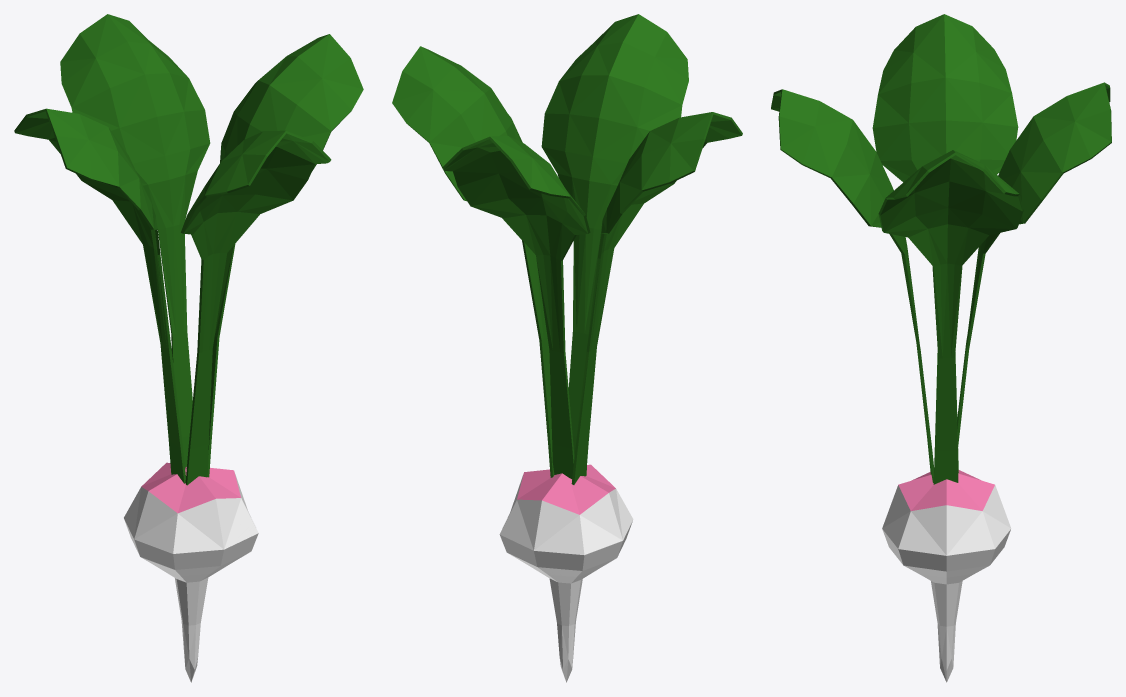
Rendered from Turnip.obj.
3 renders of one model, left to right at view 1: azimuth 30°, elevation 25°; view 2: azimuth 150°, elevation 25°; view 3: azimuth 270°, elevation 25°, orthographic.
Visible parts, largest first — view 1: Turnip_DarkGreen, Turnip_White, Turnip_PalePink2; view 2: Turnip_DarkGreen, Turnip_White, Turnip_PalePink2; view 3: Turnip_DarkGreen, Turnip_White, Turnip_PalePink2.
Part boxes in pixels (x1,y1,x2,y2): Turnip_DarkGreen: (14, 14, 363, 485); Turnip_White: (124, 474, 258, 682); Turnip_PalePink2: (141, 462, 240, 513); Turnip_DarkGreen: (392, 14, 742, 484); Turnip_White: (499, 475, 633, 682); Turnip_PalePink2: (517, 464, 615, 514); Turnip_DarkGreen: (771, 14, 1111, 484); Turnip_White: (882, 485, 1011, 682); Turnip_PalePink2: (898, 470, 994, 510).
Bounding box in the file's own units: 1.25 × 2.39 × 1.23.
